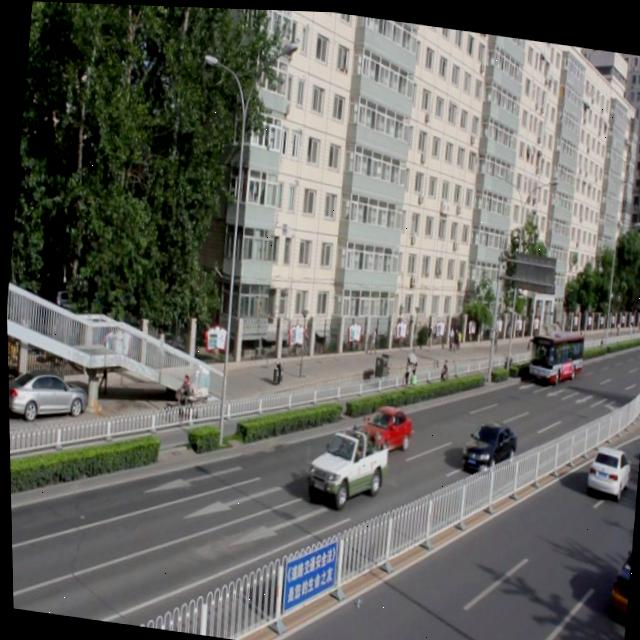car: (304, 419, 387, 510), (456, 413, 516, 472), (353, 397, 410, 451), (581, 437, 628, 493), (605, 541, 630, 613)
